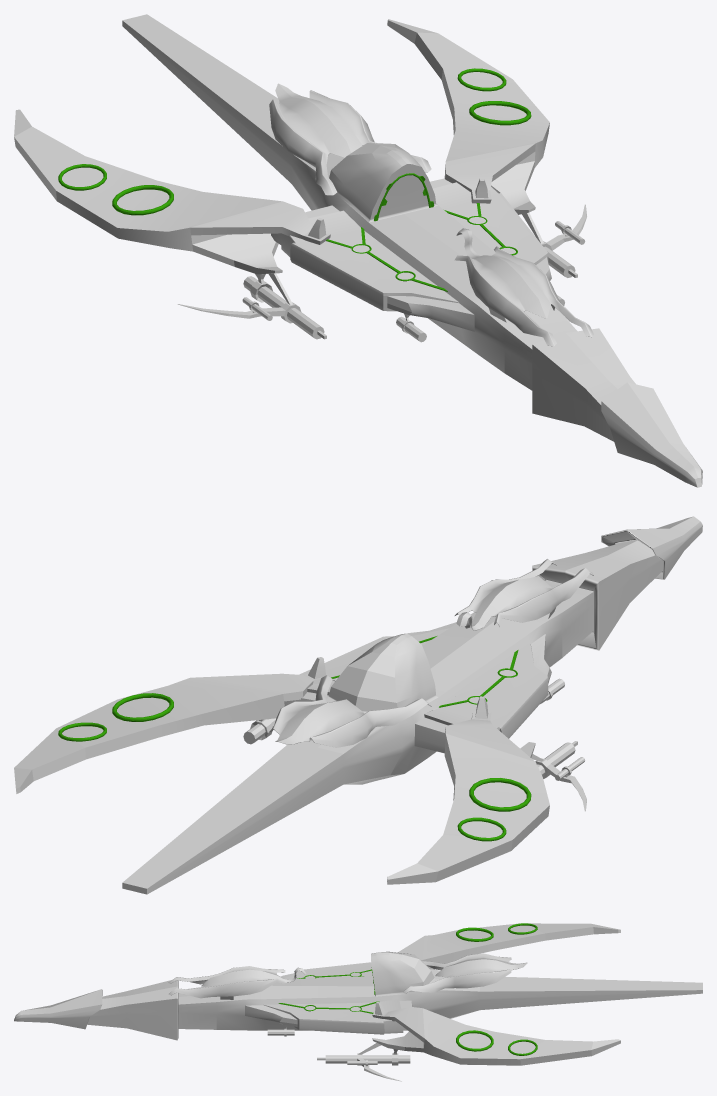
File: enemy1.fbx
3 views of the same model, one above another, from view 1: azimuth 30°, elevation 25°; view 2: azimuth 150°, elevation 25°; view 3: azimuth 270°, elevation 25° (orthographic). The views are drawn at different scales.
Parts seen in each view (by area): view 1: ship, pattern; view 2: ship, pattern; view 3: ship, pattern.
Boxes of the visible parts, <box> form: ship: <box>14,14,702,487</box>; pattern: <box>58,68,531,291</box>; ship: <box>14,516,702,894</box>; pattern: <box>58,636,531,841</box>; ship: <box>14,923,702,1081</box>; pattern: <box>278,923,537,1055</box>.
Size of the model in its own units: 42.19 by 11.5 by 90.44.
